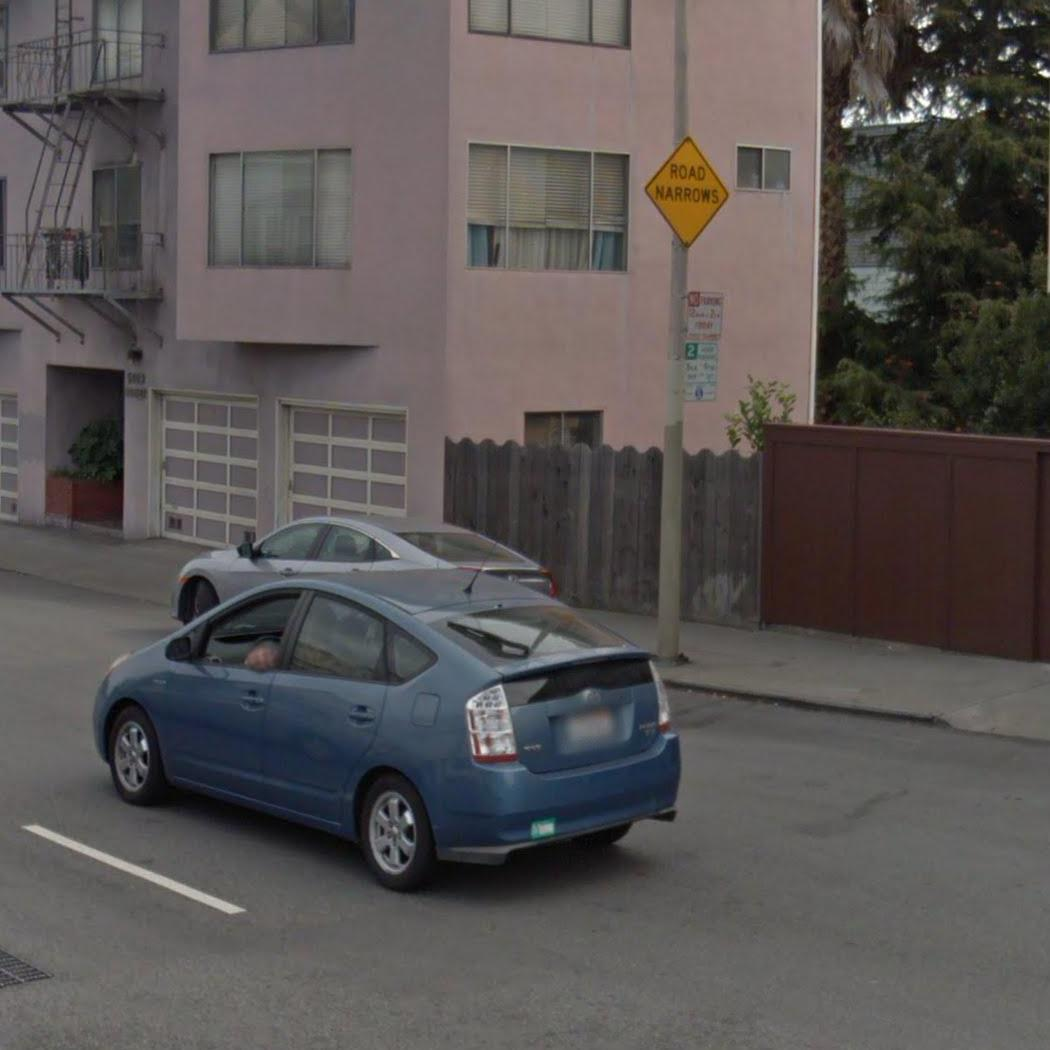2 Hour Parking: (676, 339, 721, 404)
No Parking: (681, 289, 728, 343)
